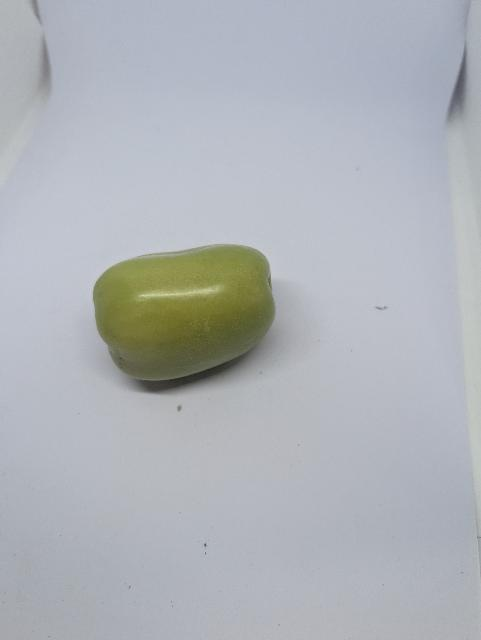green: (70, 228, 297, 413)
